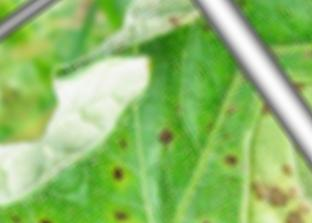Tomato Septoria leaf spot: (18, 0, 312, 223)
